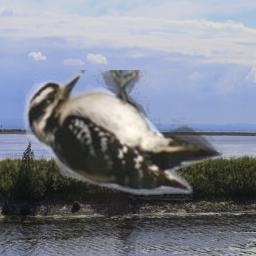Woodpecker: (15, 70, 223, 200)
